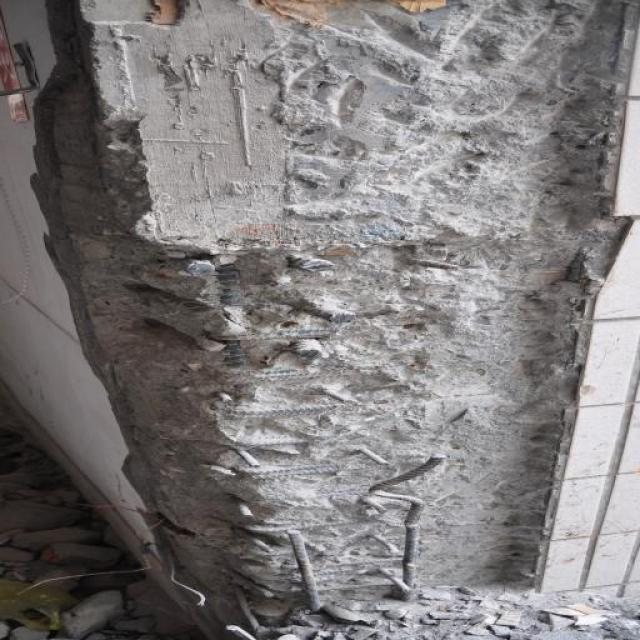D0w0: (38, 0, 634, 639)
